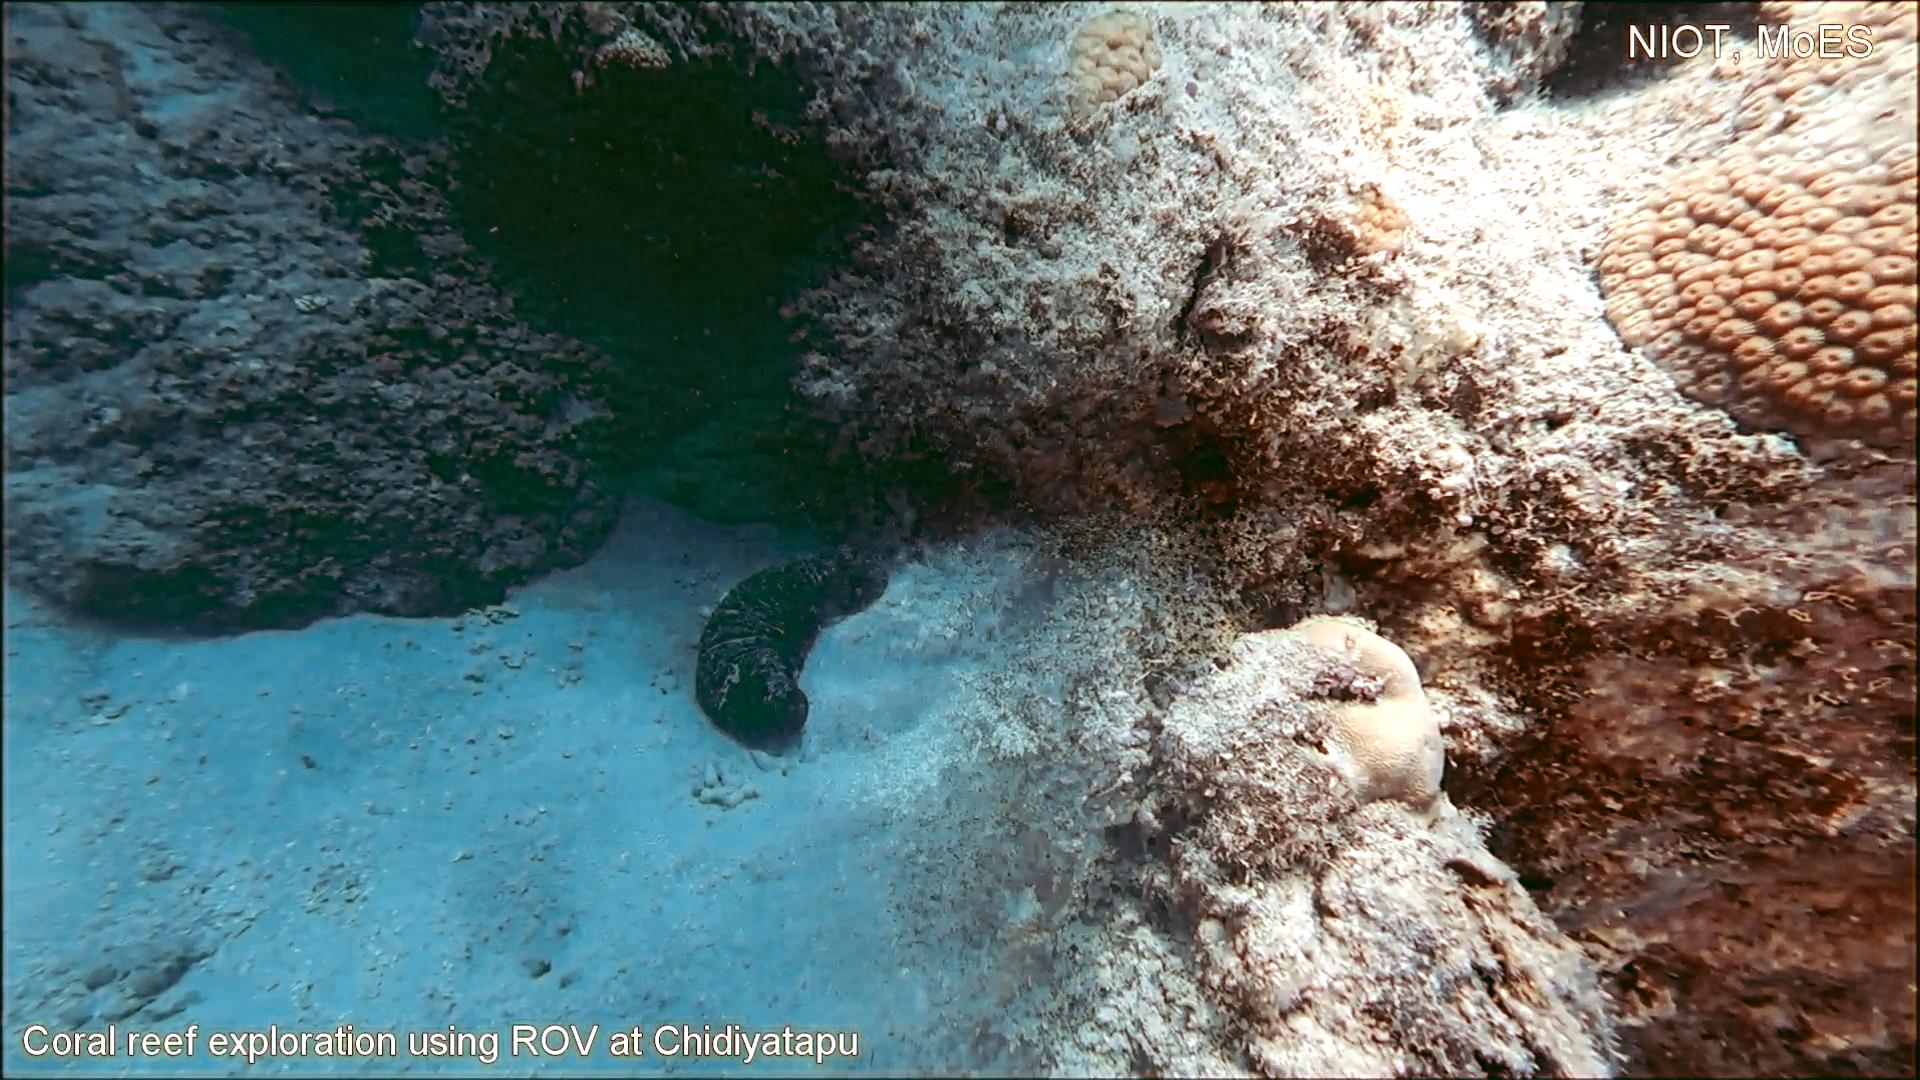Montastraea: (1575, 0, 1920, 491), (1052, 0, 1171, 142), (585, 18, 678, 108)
